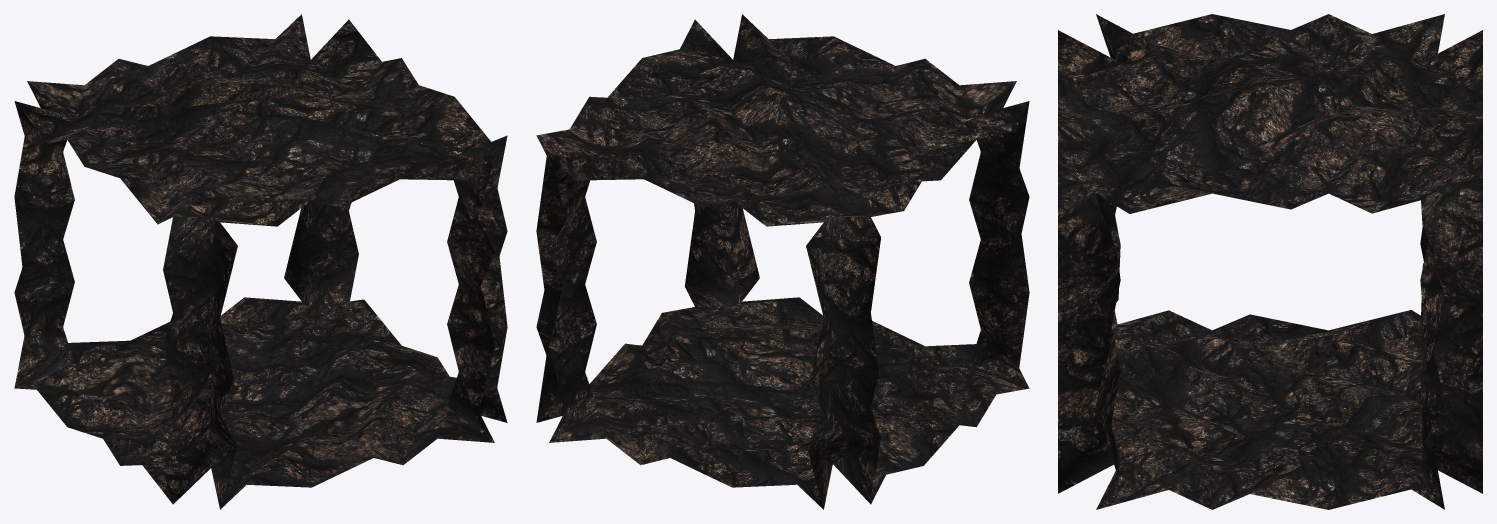
File: Level Piece - 4 Way Intersection.FBX
3 views of the same model, side by side, from view 1: azimuth 30°, elevation 25°; view 2: azimuth 150°, elevation 25°; view 3: azimuth 270°, elevation 25° (orthographic). The views are drawn at different scales.
Visible parts, largest first — view 1: 4-Intersection001; view 2: 4-Intersection001; view 3: 4-Intersection001.
Boxes of the visible parts, x1,y1,x2,y2 form: 4-Intersection001: (14,14,507,509); 4-Intersection001: (536,14,1029,509); 4-Intersection001: (1058,14,1482,509).
Bounding box in the file's own units: 254 × 254 × 224.
Materials: 1 (1 with a texture image).
